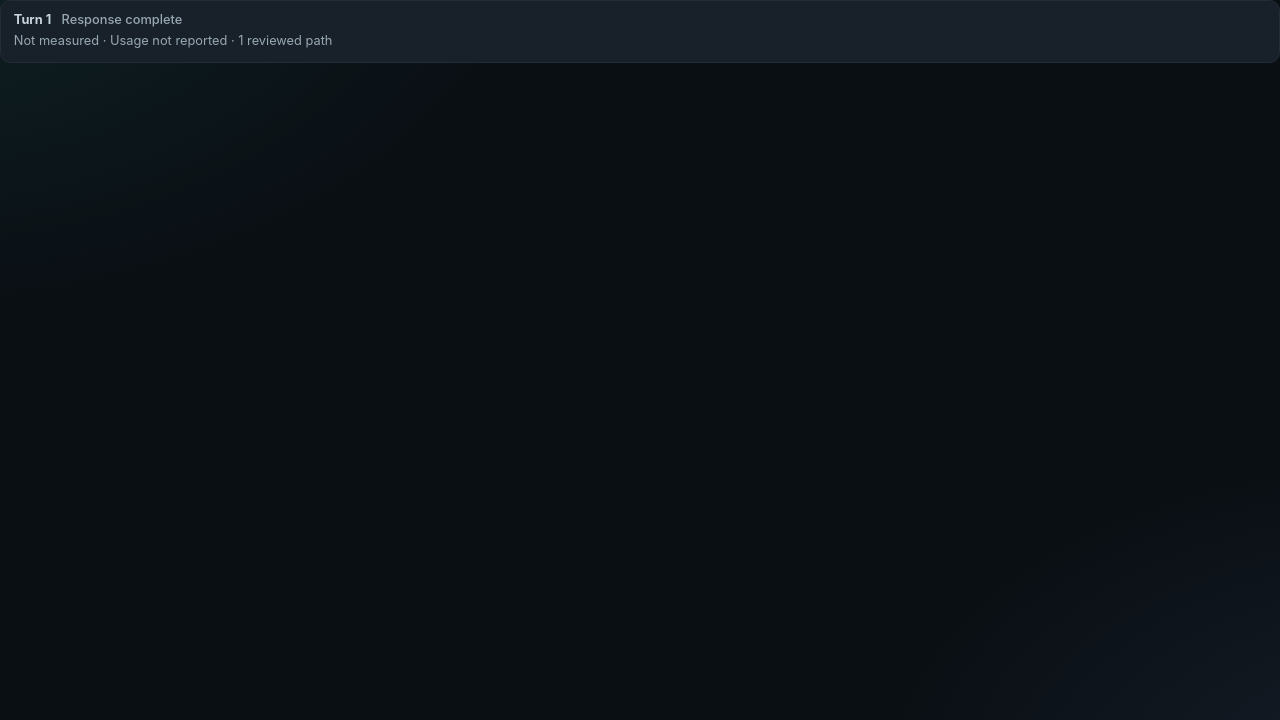
Test: AgentTurnDetails › never presents missing unavailable counters as zero
Click the heading named "Turn 1 details".
click(173, 30)  # box [14,12,332,48]
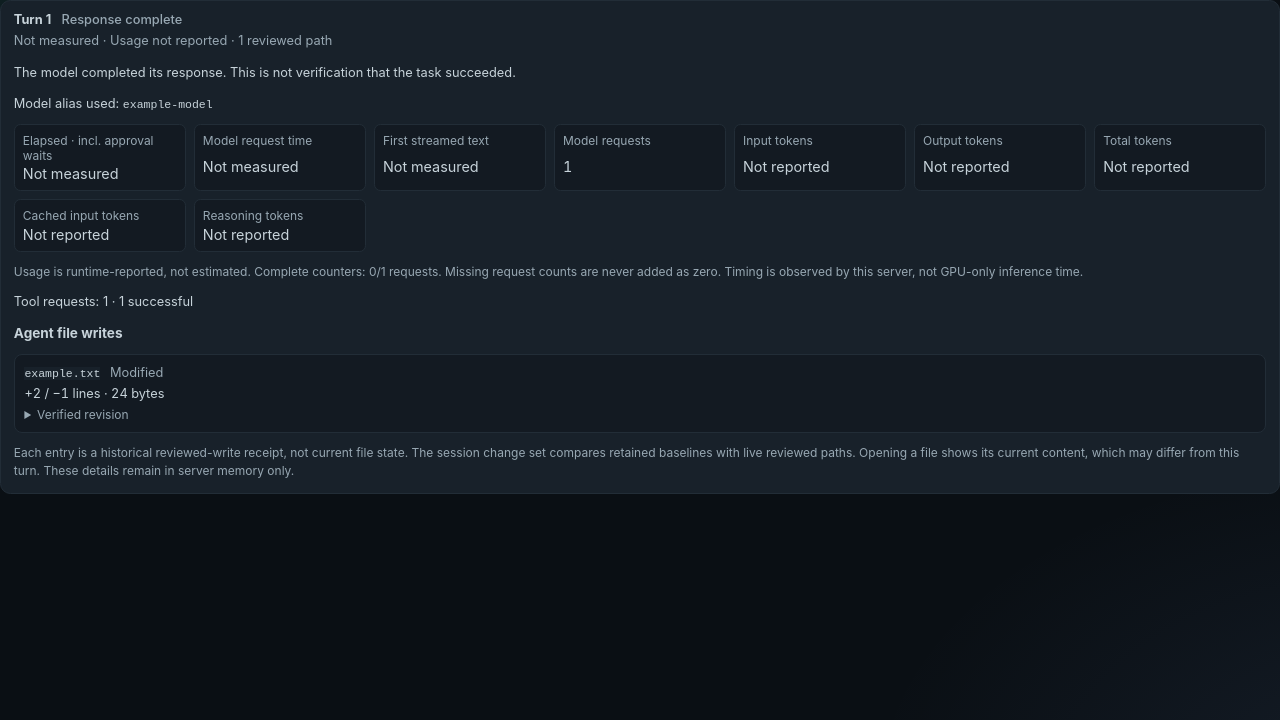
Result: the text "Not reported" is shown 5 times at [743,158,830,175]; [923,158,1010,175]; [1103,158,1190,175]; [23,226,109,243]; [203,226,289,243]
Result: the text "Not measured" is shown 3 times at [23,165,119,182]; [203,158,299,175]; [383,158,479,175]
